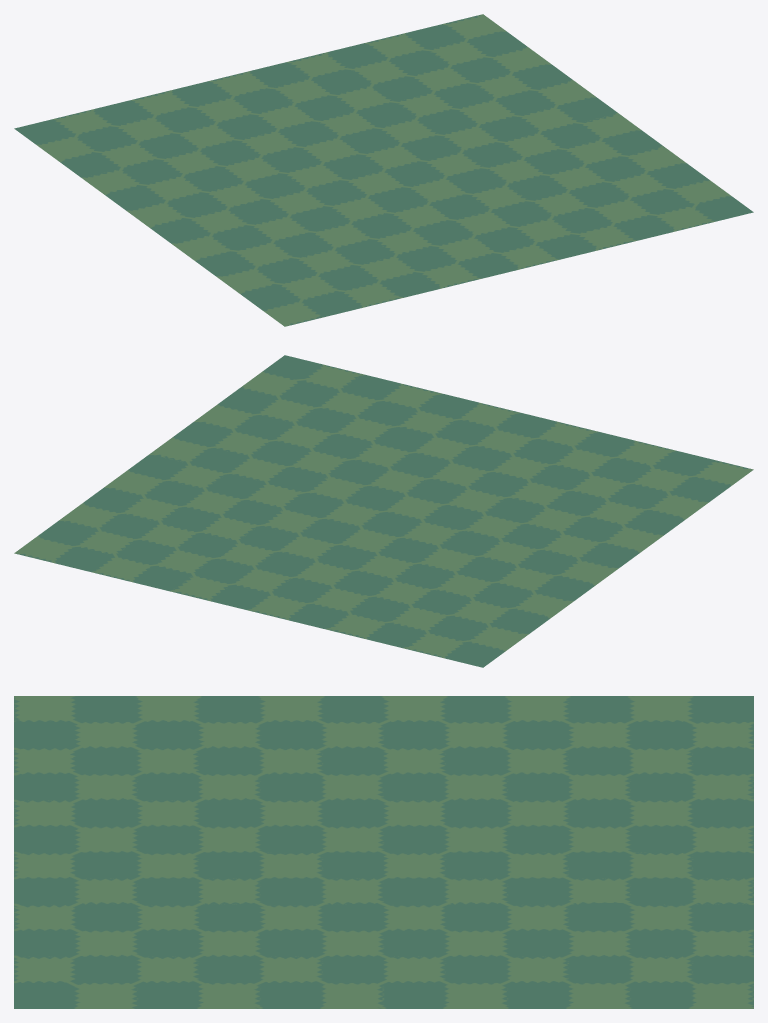
File: tanah.fbx
3 renders of one model, top to bottom at view 1: azimuth 30°, elevation 25°; view 2: azimuth 150°, elevation 25°; view 3: azimuth 270°, elevation 25°, orthographic. The views are drawn at different scales.
Visible parts, largest first — view 1: Plane; view 2: Plane; view 3: Plane.
Part boxes in pixels (left/top/right/bottom): Plane: left=14, top=14, right=753, bottom=326; Plane: left=14, top=355, right=753, bottom=667; Plane: left=14, top=696, right=753, bottom=1008.
Size of the model in its own units: 2399 by 0 by 2399.
